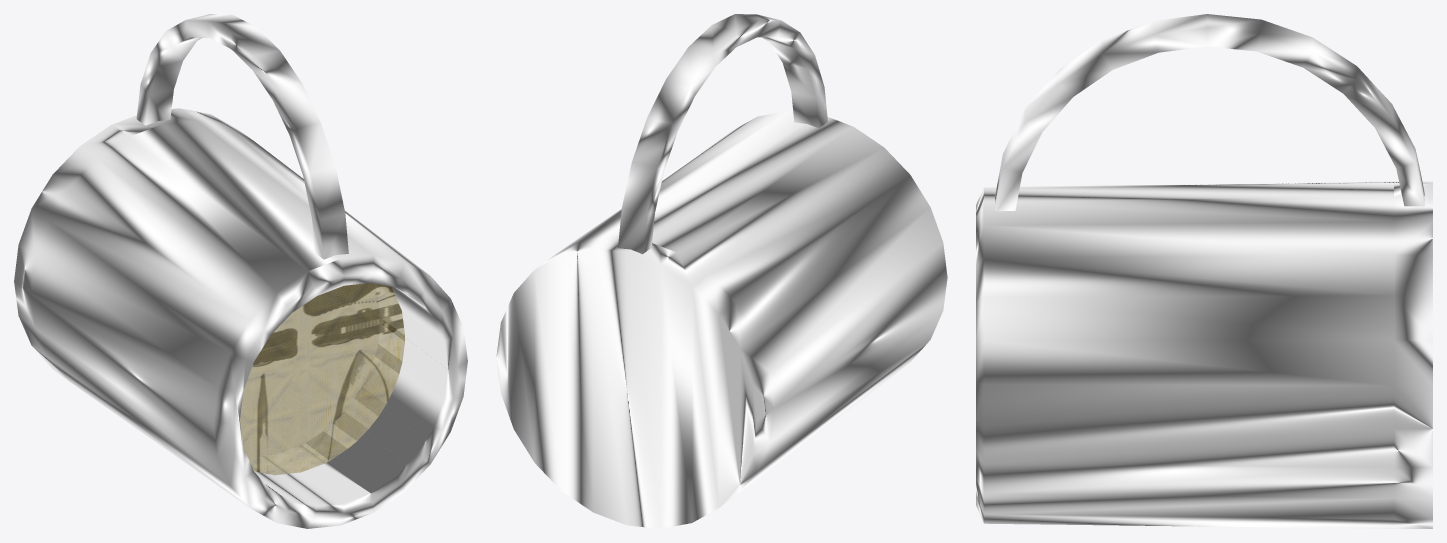
File: model_align.obj
The picture shows the model from 3 angles, left to right: view 1: azimuth 30°, elevation 25°; view 2: azimuth 150°, elevation 25°; view 3: azimuth 270°, elevation 25°; orthographic projection. The views are drawn at different scales.
Bounding box in the file's own units: 0.0708 × 0.1103 × 0.0927.
